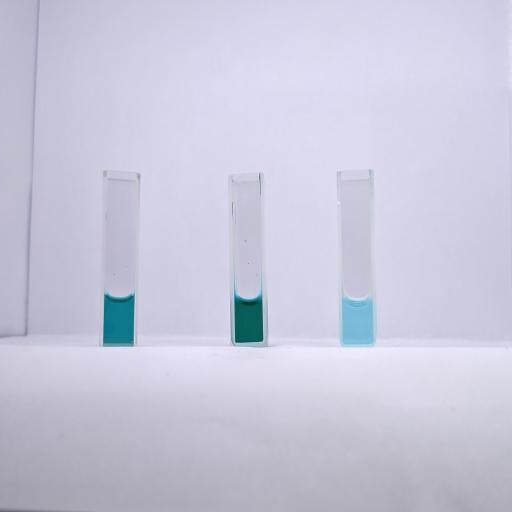cuvette: (98, 169, 142, 348), (227, 171, 271, 348), (336, 168, 378, 348)
liquid: (342, 295, 373, 343), (105, 296, 134, 343), (236, 296, 262, 342)
